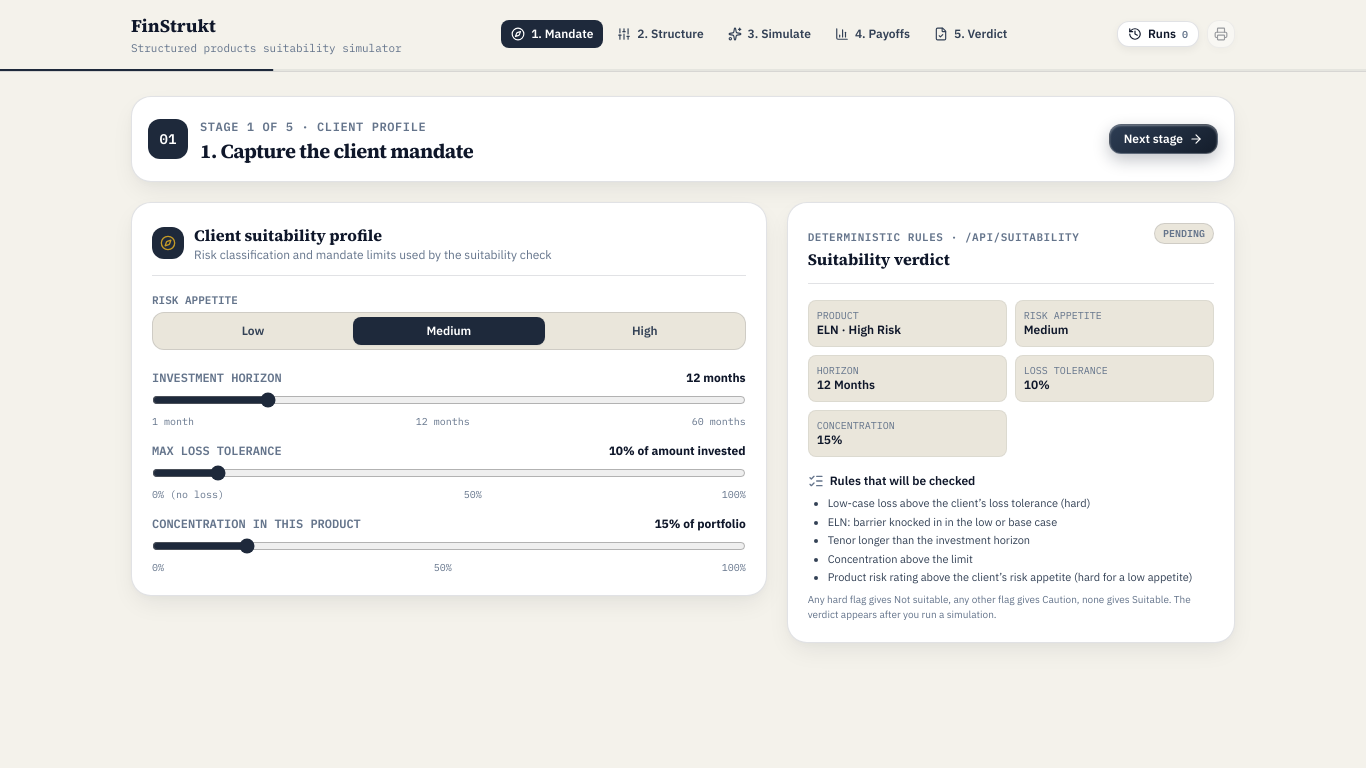
Test: the journey in the app › moves between stages with focus on the new heading and the old stage gone
Expected: the heading "1. Capture the client mandate" is shown, [200, 136, 473, 164]
Click the button "2. Structure" at x=660, y=34, box [607, 20, 714, 48]
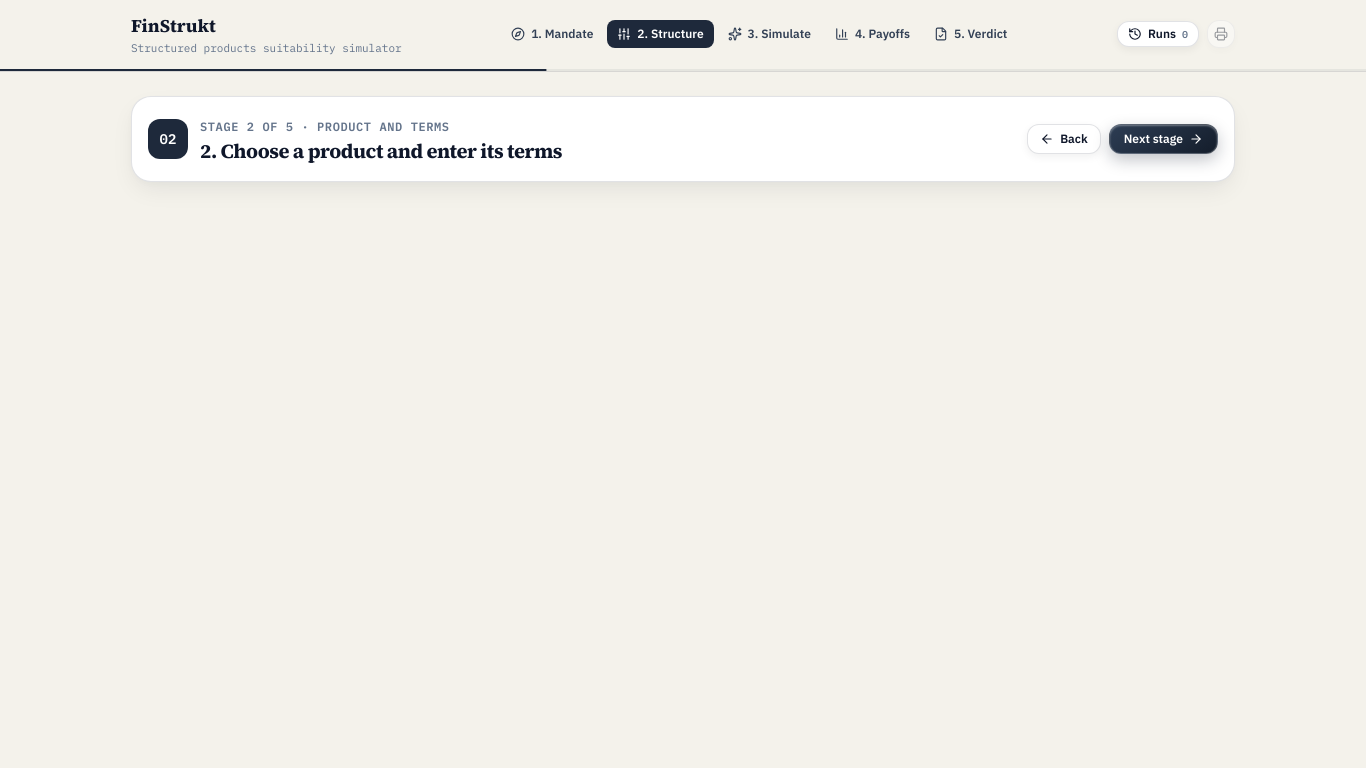
Expected: the heading shows "Choose a product", [200, 136, 562, 164]
Click the button "Back" at x=1064, y=138, box [1027, 124, 1101, 154]
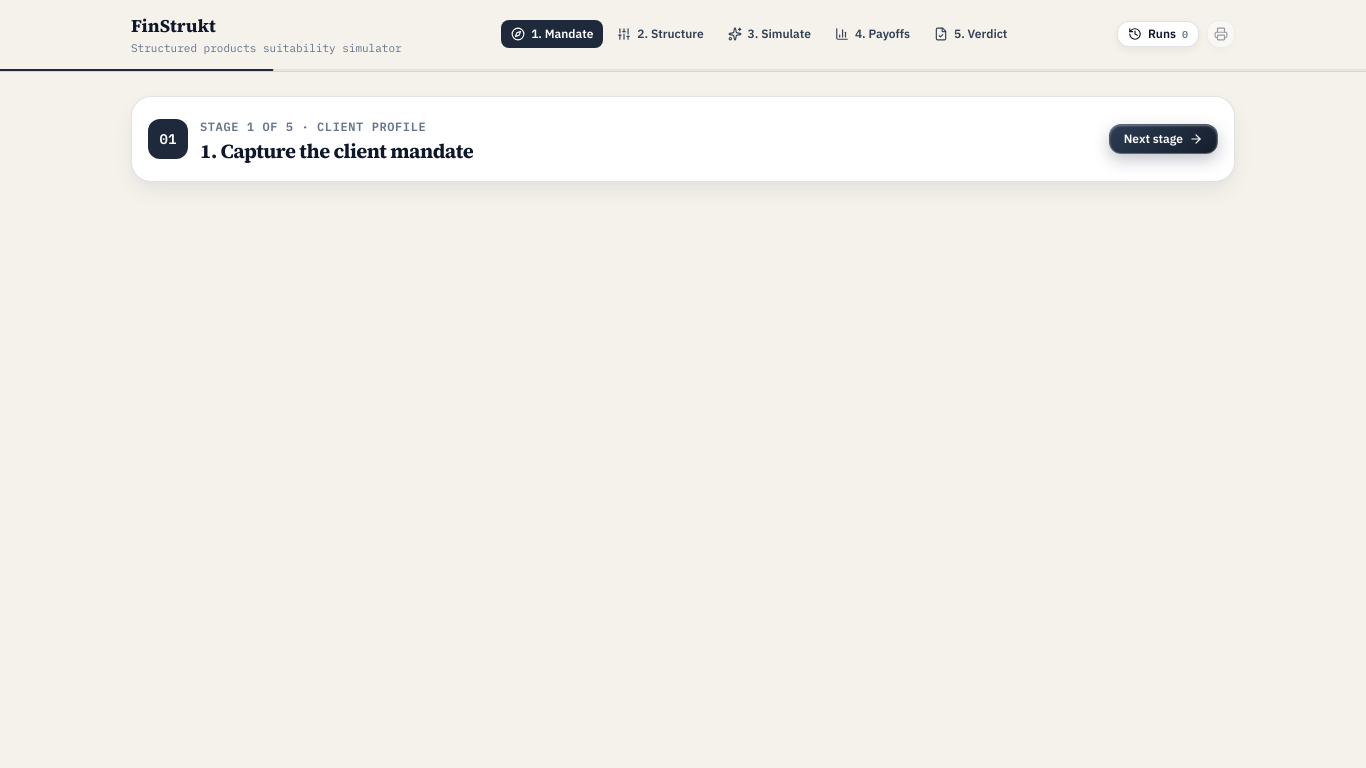
Expected: the heading shows "client mandate", [200, 136, 473, 164]
